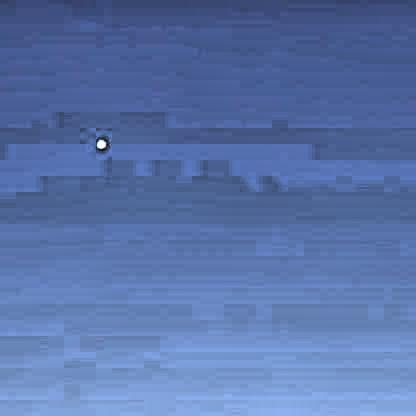golfball: (92, 135, 106, 149)
